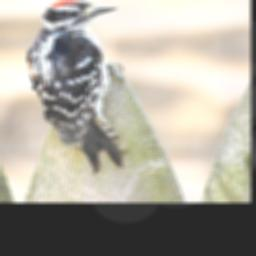Woodpecker: (22, 0, 123, 173)
